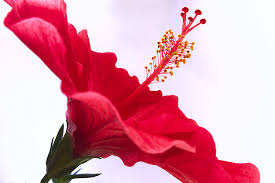hybiscus: (3, 1, 263, 183)
